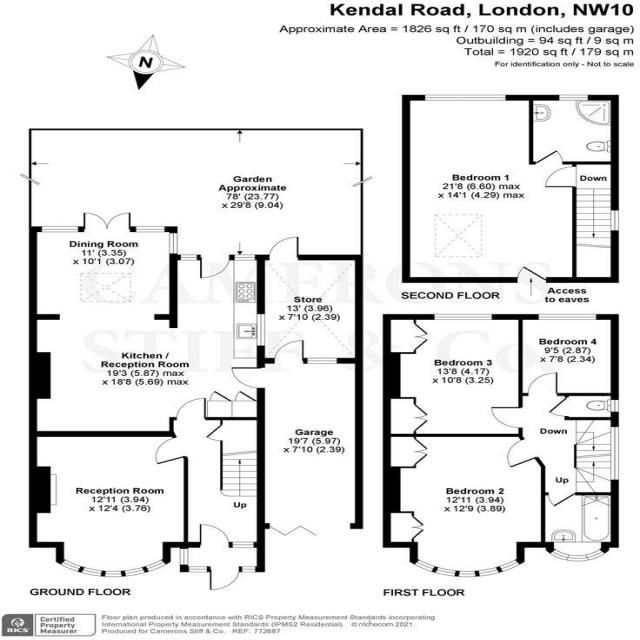DOOR: (152, 435, 190, 466), (505, 437, 540, 469), (271, 336, 306, 366), (266, 235, 301, 262), (228, 366, 267, 390), (197, 522, 231, 549), (198, 252, 231, 279), (208, 565, 241, 592), (174, 397, 208, 421), (526, 372, 558, 397), (490, 406, 524, 429), (544, 165, 578, 188), (516, 265, 548, 284), (534, 149, 564, 167), (547, 491, 576, 508), (547, 396, 570, 417)
DOUBLE DOOR: (82, 210, 134, 232)
ROOM: (28, 210, 267, 439), (399, 93, 578, 284), (25, 430, 190, 580), (381, 433, 547, 578), (381, 313, 524, 438), (517, 313, 620, 397)
WINDOW: (423, 94, 507, 102), (537, 312, 598, 322), (609, 426, 620, 481), (433, 313, 494, 321), (254, 313, 267, 348), (498, 558, 521, 573), (59, 559, 83, 573), (144, 559, 168, 573), (413, 559, 437, 573), (40, 225, 80, 233), (585, 548, 607, 562), (167, 232, 180, 255), (306, 356, 339, 365), (477, 566, 501, 578), (548, 548, 570, 561), (133, 225, 167, 233), (80, 566, 102, 578), (124, 566, 148, 577), (609, 209, 620, 232), (558, 94, 589, 102), (434, 566, 456, 577), (564, 553, 590, 562), (231, 540, 256, 549), (233, 254, 257, 262), (178, 253, 199, 262), (179, 548, 189, 566), (609, 399, 621, 413), (188, 565, 208, 573), (104, 570, 123, 578), (457, 570, 477, 577), (241, 565, 257, 573)
